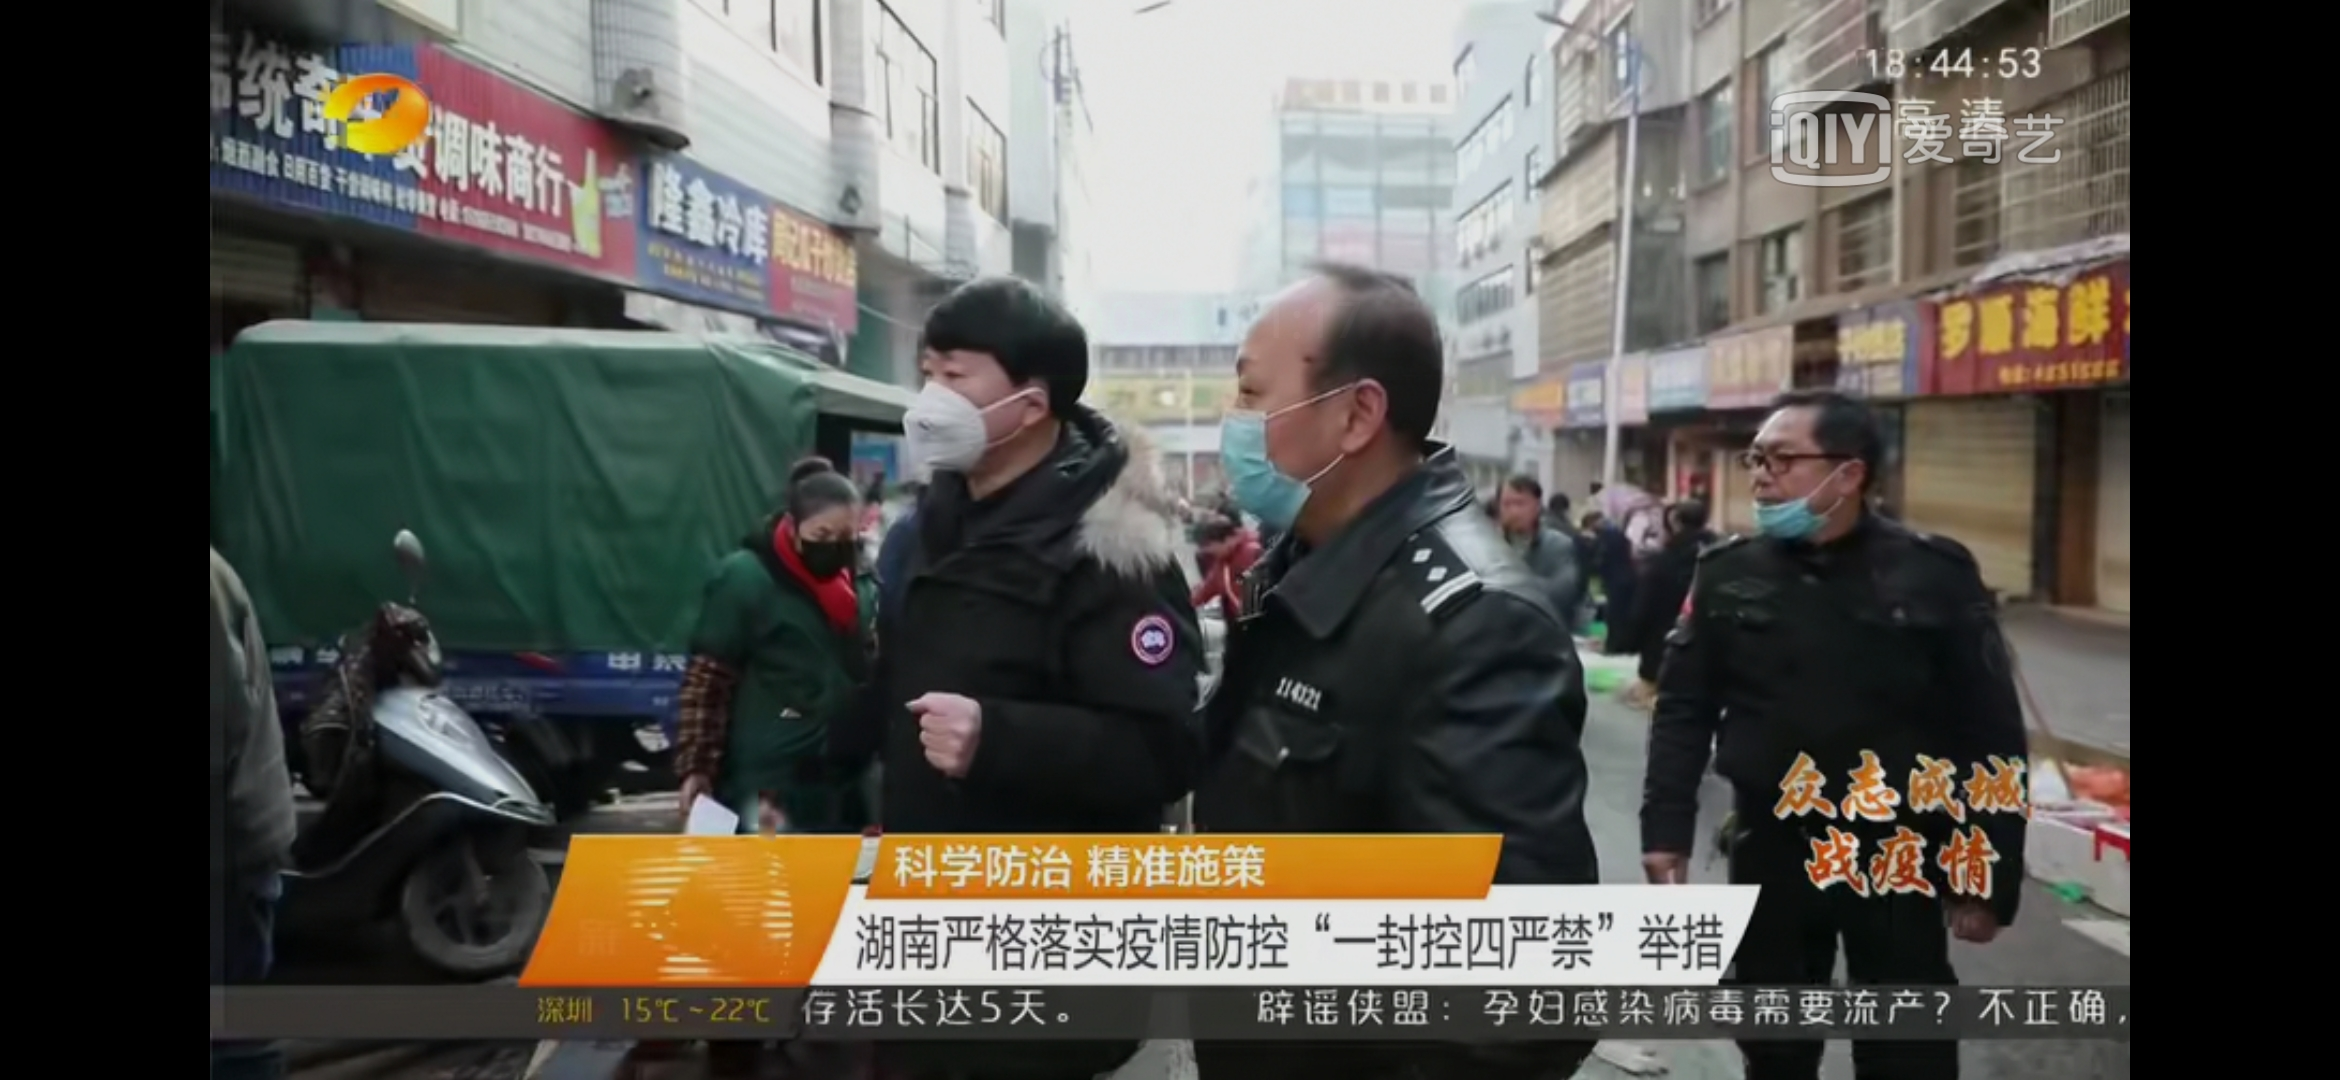correctlyWear: (1212, 339, 1392, 533), (903, 346, 1057, 483), (789, 506, 857, 580)
noWear: (1751, 424, 1864, 537), (1500, 489, 1543, 533)
